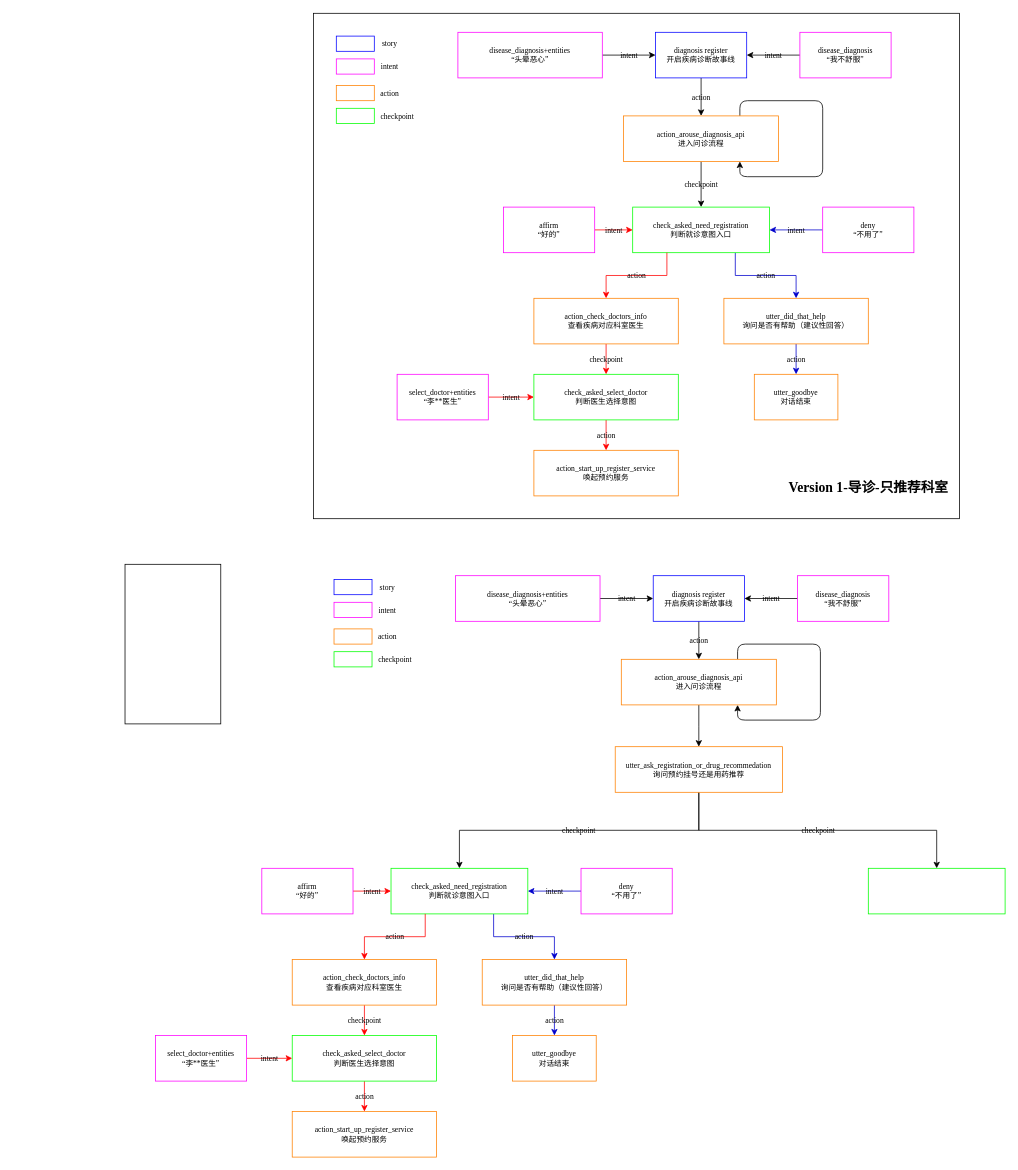
Some shapes in this 1018 by 1170 pixel diagram are drawn without their labels. Here are the shapes that lost their labels. From the top down, the centre of each, then its label:
At (x=172, y=644): "Version 2-SIC-返回初步诊断疾病、推荐科室与药物".
At (x=936, y=891): "判断推荐用药意图".
